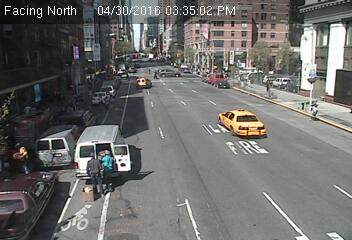neg: (117, 138, 142, 172), (238, 112, 259, 140), (24, 78, 43, 104), (293, 95, 312, 120), (70, 27, 88, 51), (298, 59, 314, 80), (215, 62, 228, 80), (29, 37, 42, 54), (112, 29, 124, 45), (152, 36, 163, 51), (210, 80, 221, 94), (234, 40, 244, 54), (195, 31, 204, 43)
pos: (72, 152, 105, 196), (6, 141, 33, 177), (263, 80, 273, 93), (151, 68, 159, 80), (124, 70, 132, 81), (147, 67, 153, 74)
